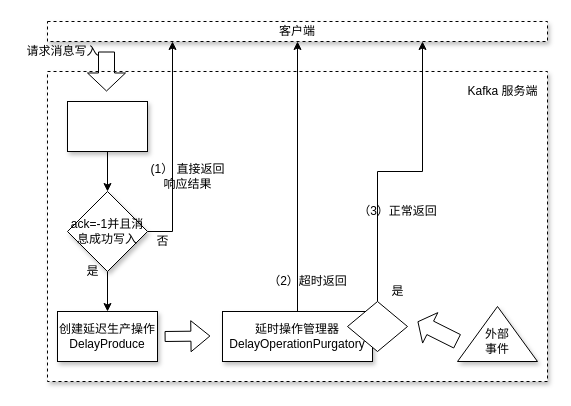
The diagram is 571 pixels wide and 406 high, and some of its shapes have lost their labels. The shapes that lost their labels are listed below. From the top down, each one's centre as x and y in pixels, then its label:
(108,127): leader副本的日志文件
(377,326): 满足 条件
